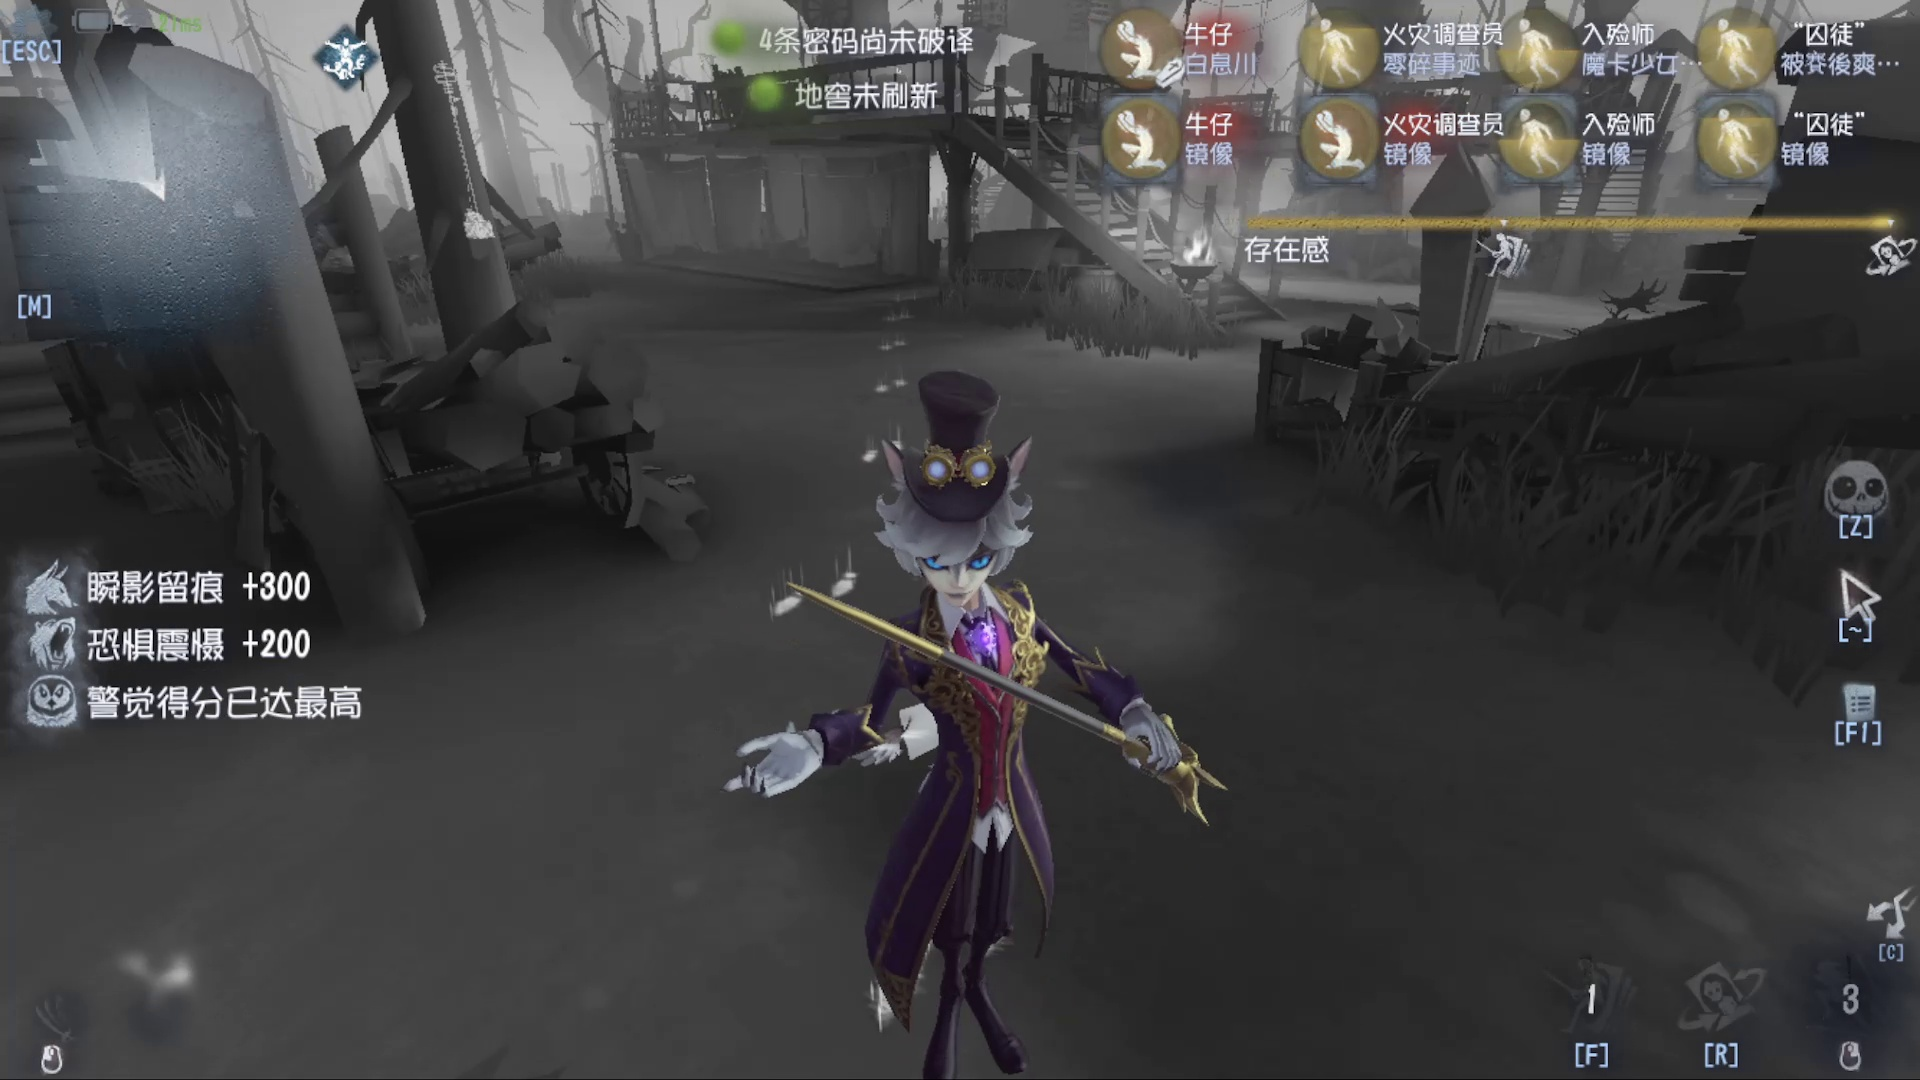狂欢之椅: (1342, 171, 1520, 380)
